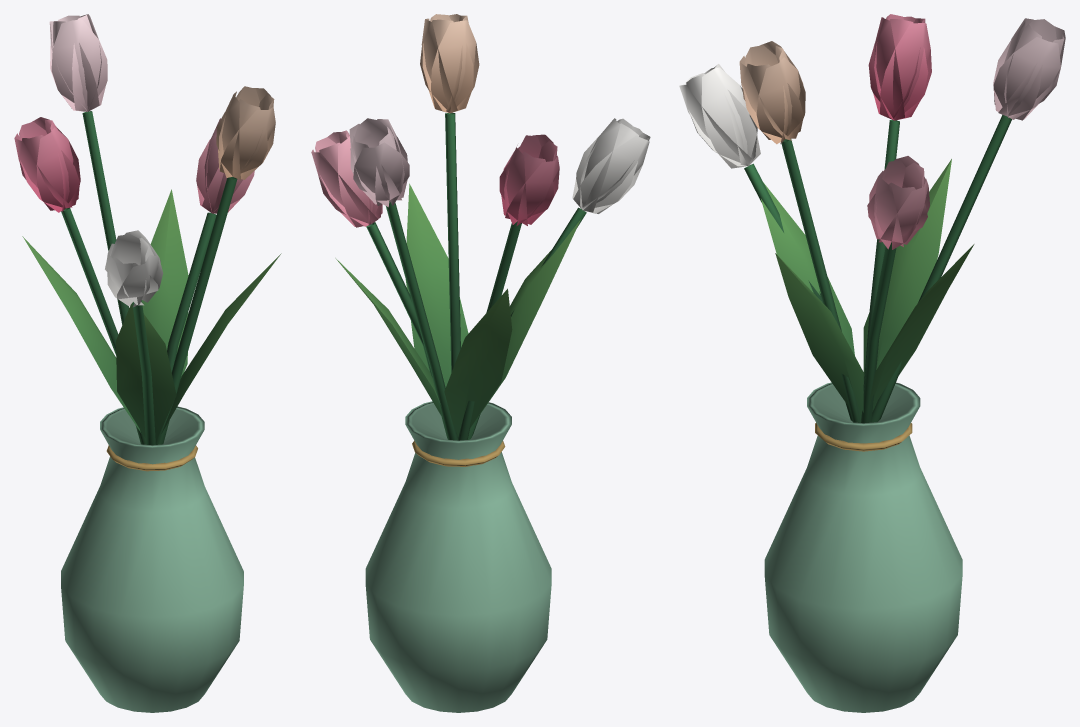
The model's file is binh-hoa.glb.
3 renders of one model, left to right at view 1: azimuth 30°, elevation 25°; view 2: azimuth 150°, elevation 25°; view 3: azimuth 270°, elevation 25°, orthographic. The views are drawn at different scales.
Parts seen in each view (by area): view 1: binh-hoa; view 2: binh-hoa; view 3: binh-hoa.
Boxes of the visible parts, x1,y1,x2,y2 form: binh-hoa: (14,14,281,712); binh-hoa: (311,14,650,712); binh-hoa: (679,14,1065,712).
Size of the model in its own units: 0.3106 by 0.7707 by 0.4035.
